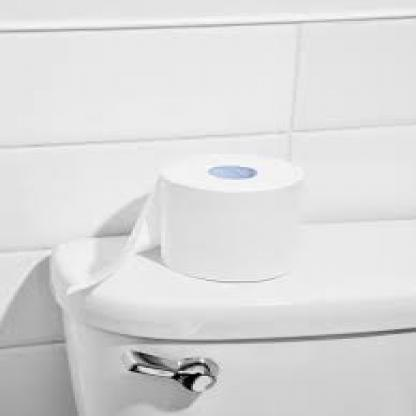tissue: (130, 150, 312, 290)
